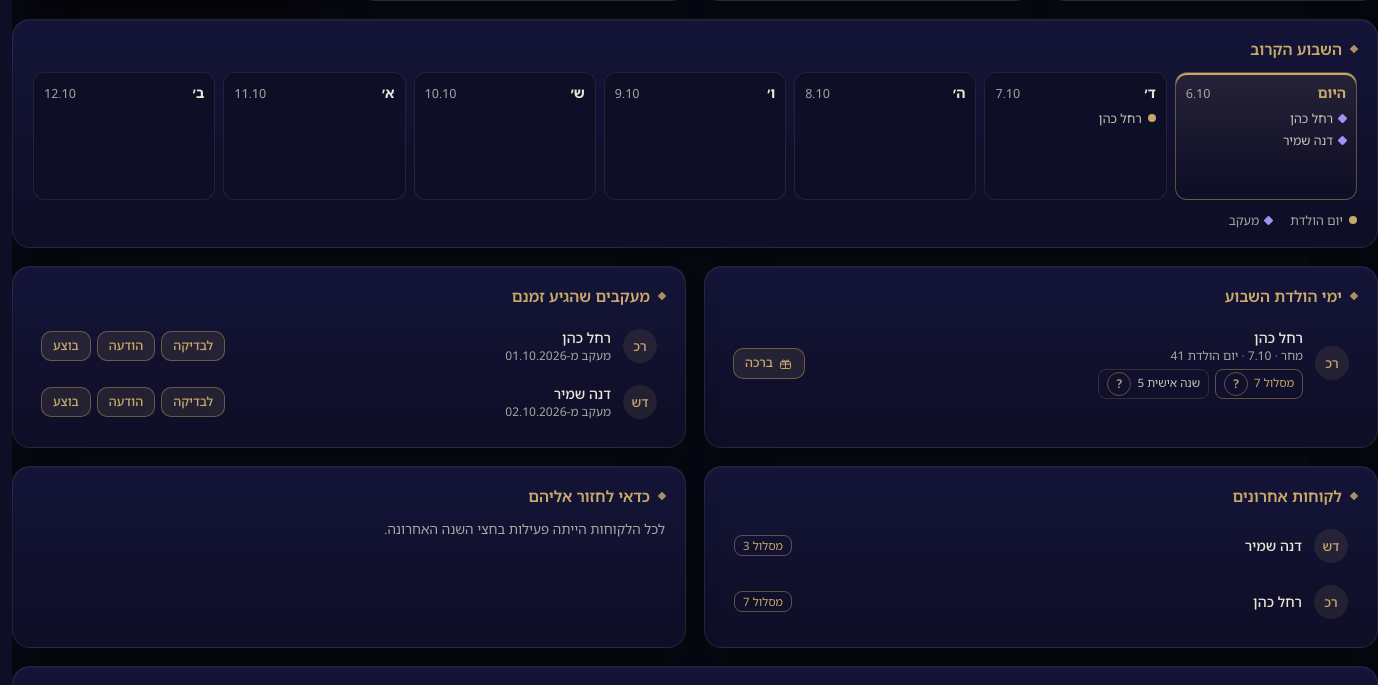
Scenario: Today › bringing clients back › marking a follow-up done › clears the date, drops the row, and moves the focus to the next one, then to the panel's title
The image size is (1378, 685).
(page scrolled)
Click the button named "בוצע — המעקב של רחל כהן". click: click(66, 346)
box: [41,331,91,361]
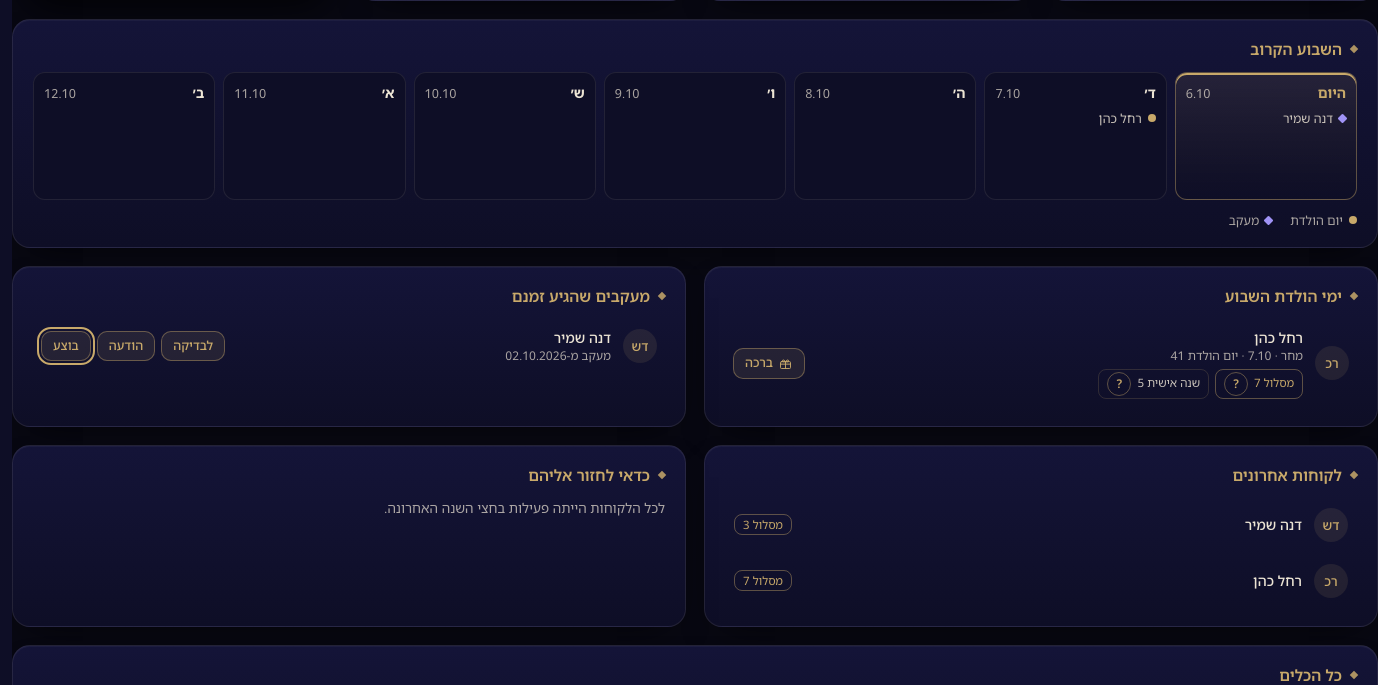
Expected: the button "בוצע — המעקב של רחל כהן" is not shown
Click the button named "בוצע — המעקב של דנה שמיר". click: click(66, 346)
box: [41,331,91,361]
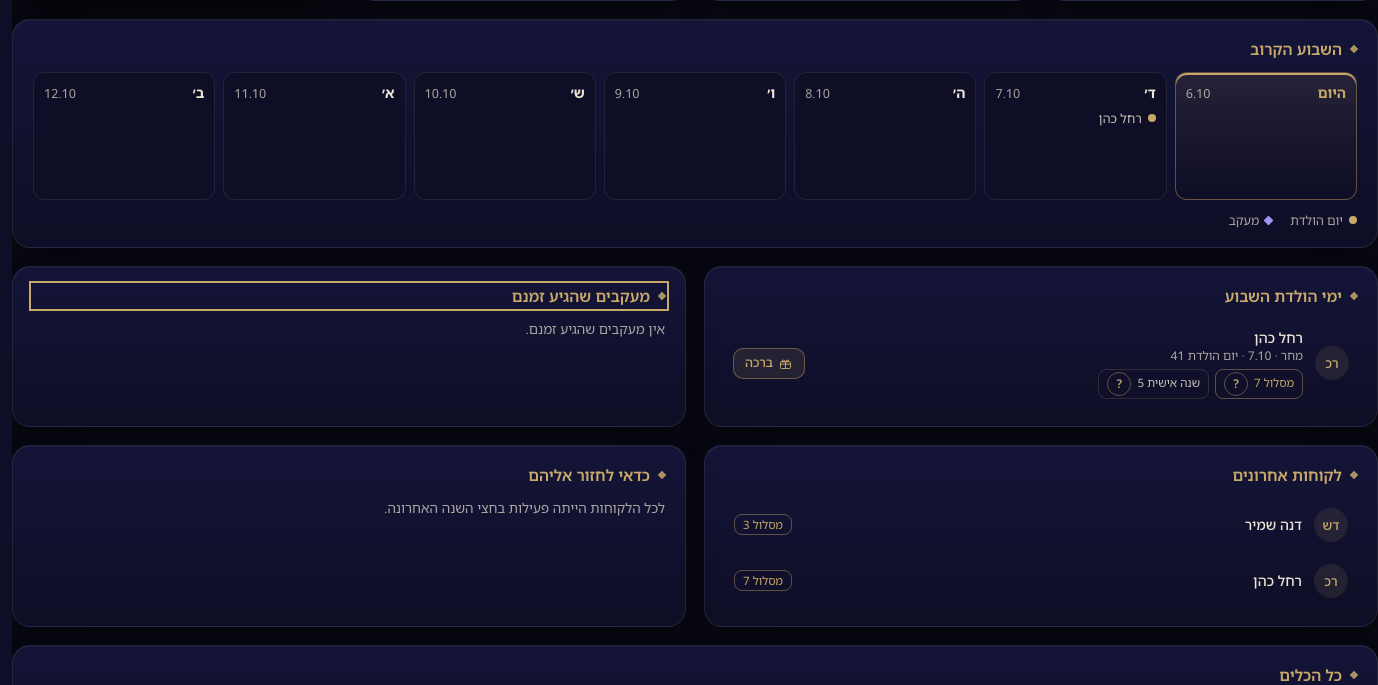
Expected: the text "אין מעקבים שהגיע זמנם." is shown, [526,320,665,338]
